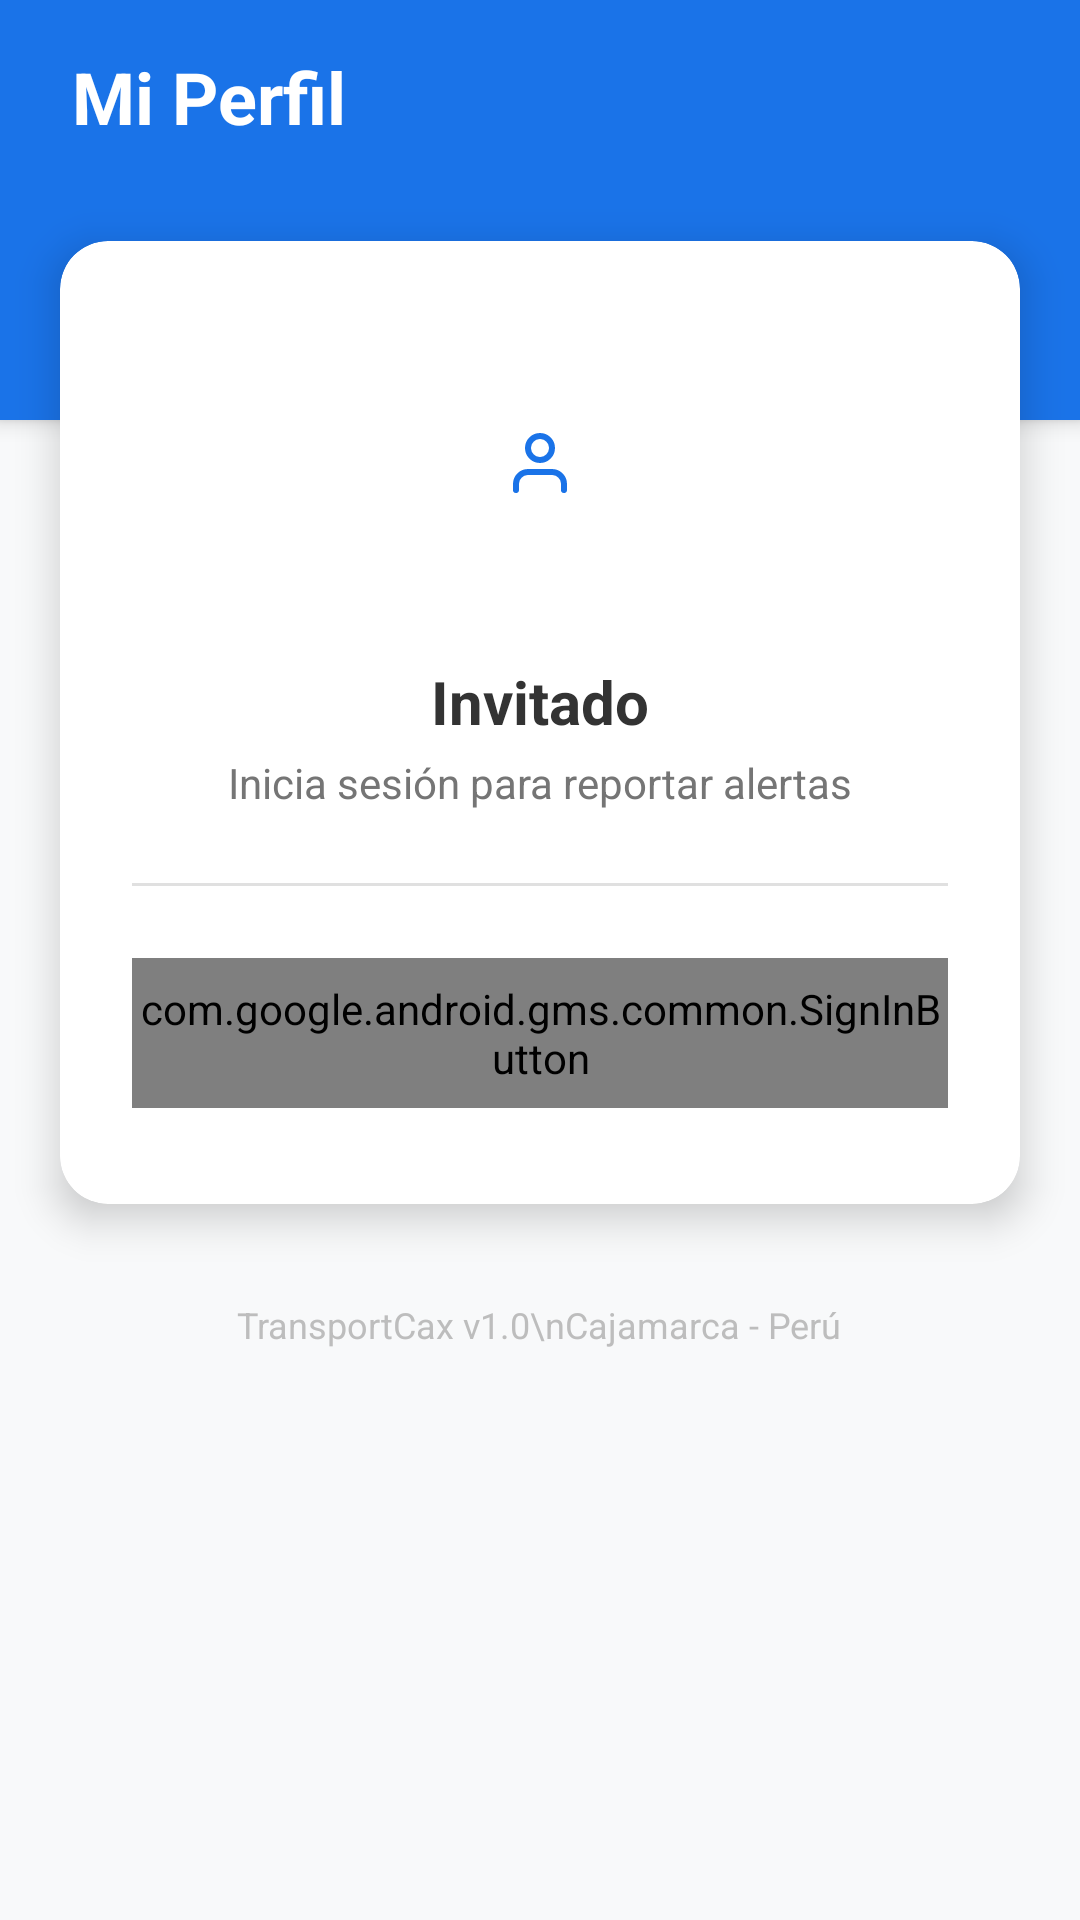

Screen size 1080 x 1920. Icon name, then its center in pixels as (x=x, y=y):
perfil: (x=540, y=463)
